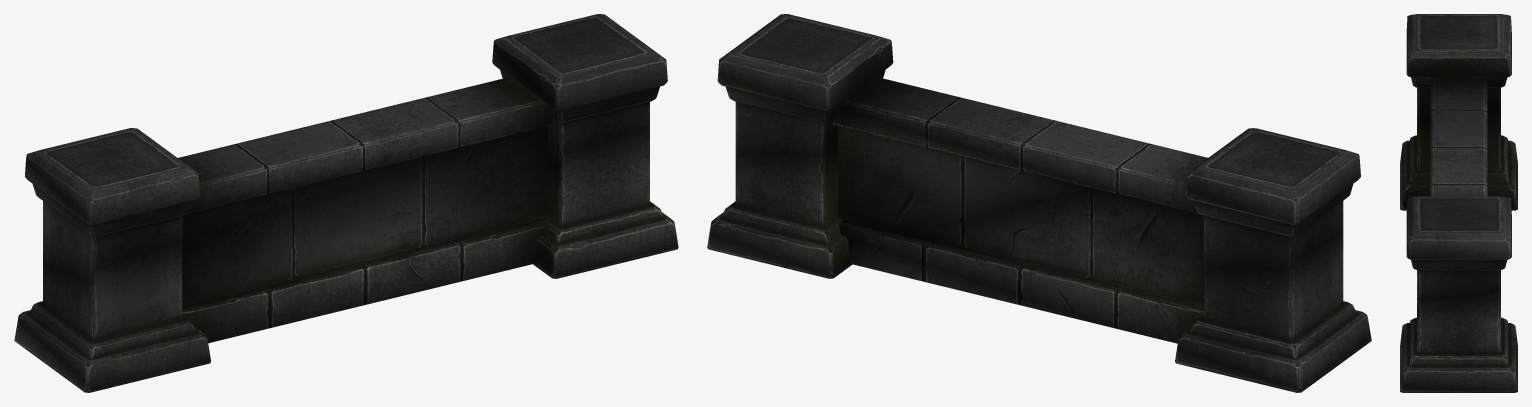
Rendered from mezarlık_citi.fbx.
3 views of the same model, side by side, from view 1: azimuth 30°, elevation 25°; view 2: azimuth 150°, elevation 25°; view 3: azimuth 270°, elevation 25° (orthographic). The views are drawn at different scales.
Visible parts, largest first — view 1: Object_2; view 2: Object_2; view 3: Object_2.
Part boxes in pixels (x1=…): Object_2: x1=14, y1=14, x2=678, y2=392; Object_2: x1=707, y1=14, x2=1371, y2=392; Object_2: x1=1400, y1=14, x2=1517, y2=392.
Bounding box in the file's own units: 7402 × 2284 × 1589.
1 material, 1 textured.
